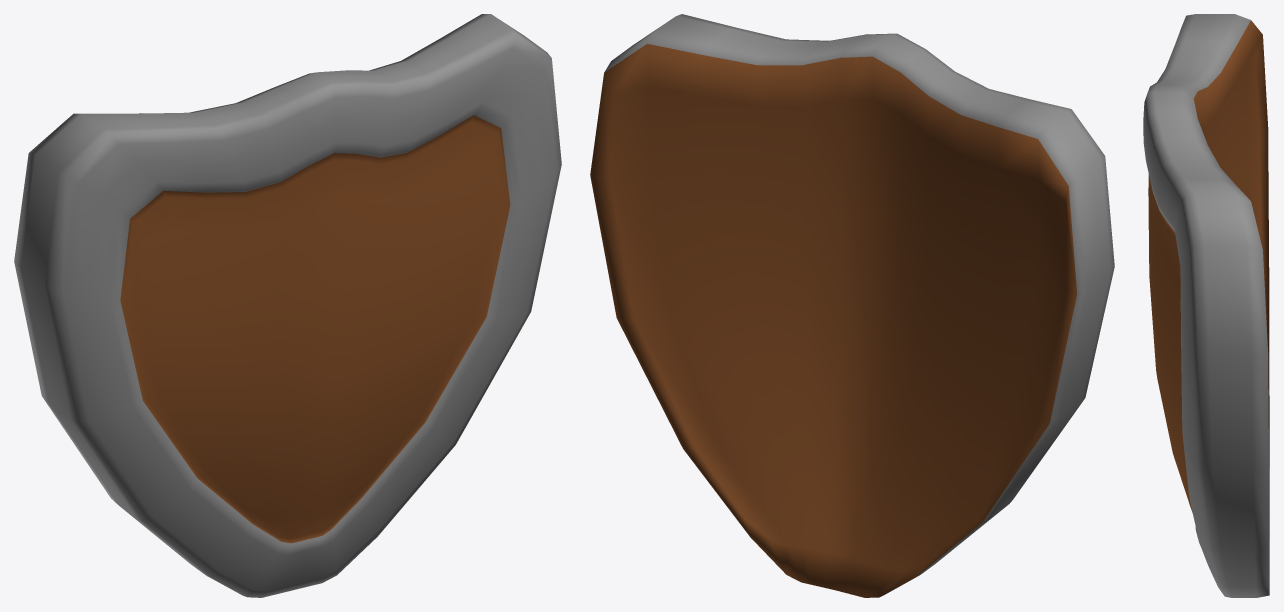
Rendered from shield.fbx.
3 views of the same model, side by side, from view 1: azimuth 30°, elevation 25°; view 2: azimuth 150°, elevation 25°; view 3: azimuth 270°, elevation 25° (orthographic). The views are drawn at different scales.
Parts seen in each view (by area): view 1: Armor; view 2: Armor; view 3: Armor.
Boxes of the visible parts, <box> form: Armor: <box>14,14,561,597</box>; Armor: <box>590,14,1114,597</box>; Armor: <box>1143,14,1269,597</box>.
Bounding box in the file's own units: 195 × 195 × 45.75.
